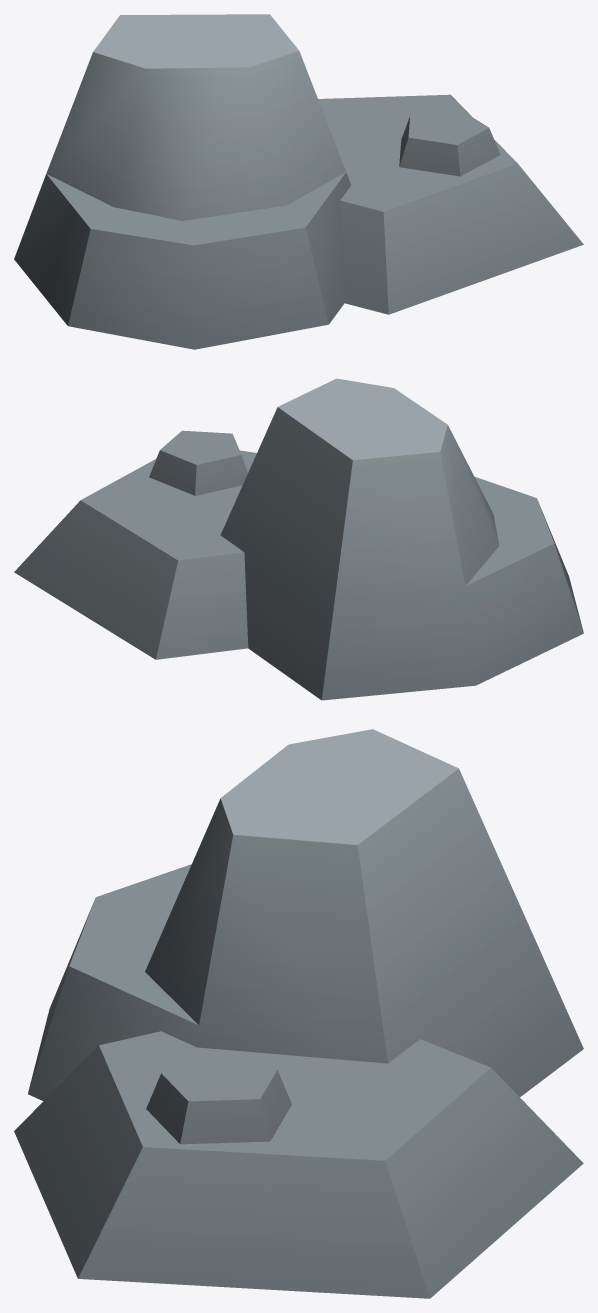
File: rock-e.glb
3 views of the same model, one above another, from view 1: azimuth 30°, elevation 25°; view 2: azimuth 150°, elevation 25°; view 3: azimuth 270°, elevation 25° (orthographic). The views are drawn at different scales.
Parts seen in each view (by area): view 1: rock_single_E; view 2: rock_single_E; view 3: rock_single_E.
Part boxes in pixels (left/top/right/bottom): rock_single_E: left=14, top=14, right=583, bottom=349; rock_single_E: left=14, top=378, right=583, bottom=700; rock_single_E: left=14, top=729, right=583, bottom=1298.
Size of the model in its own units: 0.4881 by 0.1948 by 0.3475.
Materials: 1 (1 with a texture image).
